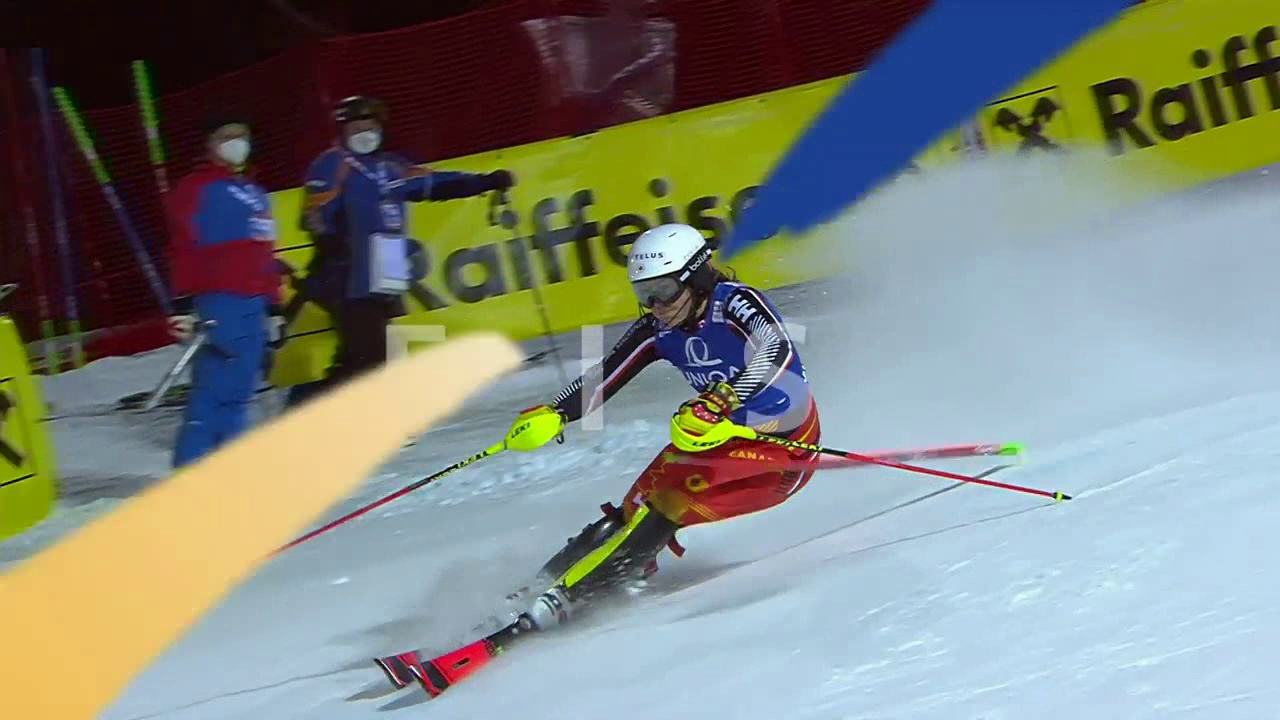uniqa: (671, 332, 737, 396)
